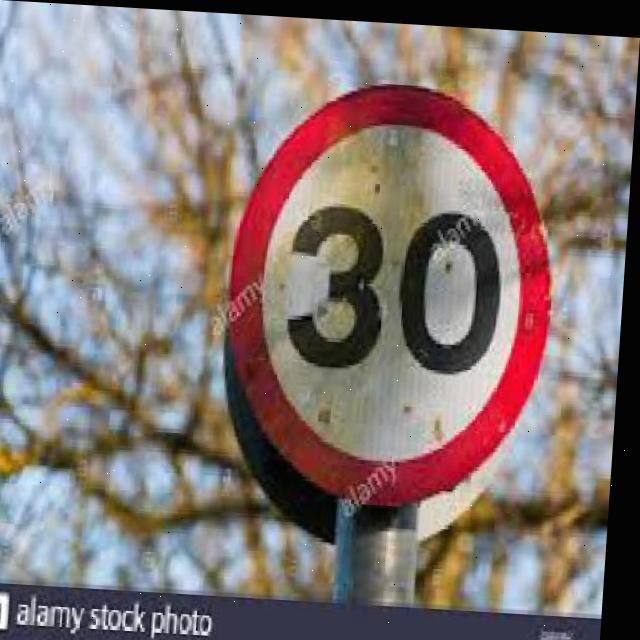Speed limit 30: (214, 68, 570, 543)
